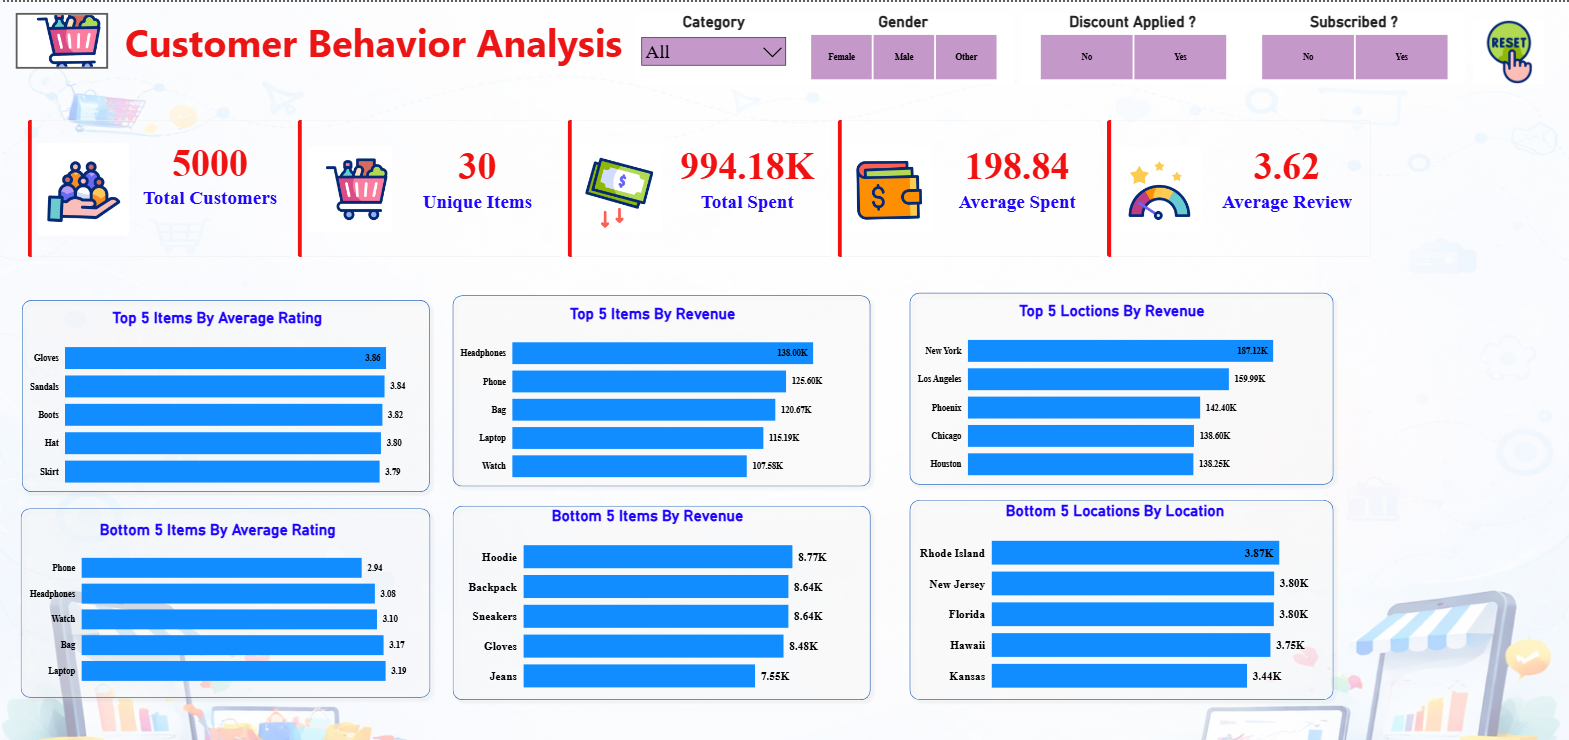

The dashboard page shown, as its layout file describes it:
{"tool":"powerbi","page":{"name":"Best-Worst","canvas":[2200,1200],"ordinal":1},"visuals":[{"type":"cardVisual","fields":{"Data":["retail_cleaned.Total Customers","retail_cleaned.Unique Items","retail_cleaned.Total_Spent","retail_cleaned.Average_Spent","retail_cleaned.Average_Review"]},"box":[21.7,149,1918.3,226.7],"z":0},{"type":"shape","box":[1265,399,611.7,286.7],"z":0,"group":"g5"},{"type":"shape","box":[625,402.3,603.1,286],"z":0,"group":"g3"},{"type":"shape","box":[21.7,409,589.3,287],"z":0,"group":"g1"},{"type":"shape","box":[1265,689,611.7,298.3],"z":0,"group":"g6"},{"type":"shape","box":[625,697.3,603.3,290],"z":0,"group":"g4"},{"type":"shape","box":[20,700.7,591.7,283.3],"z":0,"group":"g2"},{"type":"group","id":"g1","title":"Group 2","box":[21.7,409,590,288.3],"z":1000},{"type":"group","id":"g2","title":"Group 2","box":[20,700.7,591.7,283.3],"z":2000},{"type":"group","id":"g3","title":"Group 2","box":[625,402.3,603.3,286.7],"z":3000},{"type":"clusteredBarChart","title":"Top 5 Loctions By Revenue","fields":{"Y":["Sum(retail_cleaned.purchase_amount)"],"Category":["retail_cleaned.location"]},"box":[1278.9,421,558.1,264.7],"z":3000,"group":"g5"},{"type":"clusteredBarChart","title":"Top 5 Items By Revenue","fields":{"Category":["retail_cleaned.item_purchased"],"Y":["Sum(retail_cleaned.purchase_amount)"]},"box":[638.2,424.2,551.5,264.1],"z":3000,"group":"g3"},{"type":"clusteredBarChart","title":"Top 5 Items By Average Rating","fields":{"Category":["retail_cleaned.item_purchased"],"Y":["retail_cleaned.Average_Review"]},"box":[34.6,431,538.9,265],"z":3000,"group":"g1"},{"type":"clusteredBarChart","title":"Bottom 5 Locations By Location","fields":{"Y":["Sum(retail_cleaned.purchase_amount)"],"Category":["retail_cleaned.location"]},"box":[1281.7,700.3,560,283.7],"z":3000,"group":"g6"},{"type":"clusteredBarChart","title":"Bottom 5 Items By Revenue","fields":{"Category":["retail_cleaned.item_purchased"],"Y":["Sum(retail_cleaned.purchase_amount)"]},"box":[650.5,707.7,513.7,276.1],"z":3000,"group":"g4"},{"type":"clusteredBarChart","title":"Bottom 5 Items By Average Rating","fields":{"Category":["retail_cleaned.item_purchased"],"Y":["retail_cleaned.Average_Review"]},"box":[35,727.2,539.8,244.6],"z":3000,"group":"g2"},{"type":"group","id":"g4","title":"Group 2","box":[625,697.3,603.3,290],"z":4000},{"type":"group","id":"g5","title":"Group 2","box":[1265,399,611.7,286.7],"z":5000},{"type":"group","id":"g6","title":"Group 2","box":[1265,689,611.7,298.3],"z":6000},{"type":"textbox","box":[170,15.7,724.3,124.3],"z":7000},{"type":"actionButton","box":[21.4,15.7,130,78.6],"z":8000},{"type":"slicer","title":"Category","fields":{"Values":["retail_cleaned.category"]},"box":[887.8,15.2,222.9,99.1],"z":9000},{"type":"slicer","title":"Gender","fields":{"Values":["retail_cleaned.gender"]},"box":[1110,15,310,100],"z":10000},{"type":"slicer","title":"Discount Applied ?","fields":{"Values":["retail_cleaned.discount_applied"]},"box":[1431.7,15,310,100],"z":11000},{"type":"slicer","title":"Subscribed ?","fields":{"Values":["retail_cleaned.subscription_status"]},"box":[1741.7,15,310,100],"z":12000},{"type":"actionButton","box":[2063.3,25,100,90],"z":13000}]}

Visuals, with their boxes on the page's 2200x1200 design canvas (x1, y1, x2, y2). These are canvas units, not pixel positions in the 1569x740 screenshot, which may show the page scaled, cropped or inside an application window:
cardVisual - retail_cleaned.Total Customers x retail_cleaned.Unique Items: (left=22, top=149, right=1940, bottom=376)
shape: (left=1265, top=399, right=1877, bottom=686)
shape: (left=625, top=402, right=1228, bottom=688)
shape: (left=22, top=409, right=611, bottom=696)
shape: (left=1265, top=689, right=1877, bottom=987)
shape: (left=625, top=697, right=1228, bottom=987)
shape: (left=20, top=701, right=612, bottom=984)
"Group 2" group: (left=22, top=409, right=612, bottom=697)
"Group 2" group: (left=20, top=701, right=612, bottom=984)
"Group 2" group: (left=625, top=402, right=1228, bottom=689)
"Top 5 Loctions By Revenue" clusteredBarChart: (left=1279, top=421, right=1837, bottom=686)
"Top 5 Items By Revenue" clusteredBarChart: (left=638, top=424, right=1190, bottom=688)
"Top 5 Items By Average Rating" clusteredBarChart: (left=35, top=431, right=574, bottom=696)
"Bottom 5 Locations By Location" clusteredBarChart: (left=1282, top=700, right=1842, bottom=984)
"Bottom 5 Items By Revenue" clusteredBarChart: (left=650, top=708, right=1164, bottom=984)
"Bottom 5 Items By Average Rating" clusteredBarChart: (left=35, top=727, right=575, bottom=972)
"Group 2" group: (left=625, top=697, right=1228, bottom=987)
"Group 2" group: (left=1265, top=399, right=1877, bottom=686)
"Group 2" group: (left=1265, top=689, right=1877, bottom=987)
textbox: (left=170, top=16, right=894, bottom=140)
actionButton: (left=21, top=16, right=151, bottom=94)
"Category" slicer: (left=888, top=15, right=1111, bottom=114)
"Gender" slicer: (left=1110, top=15, right=1420, bottom=115)
"Discount Applied ?" slicer: (left=1432, top=15, right=1742, bottom=115)
"Subscribed ?" slicer: (left=1742, top=15, right=2052, bottom=115)
actionButton: (left=2063, top=25, right=2163, bottom=115)
